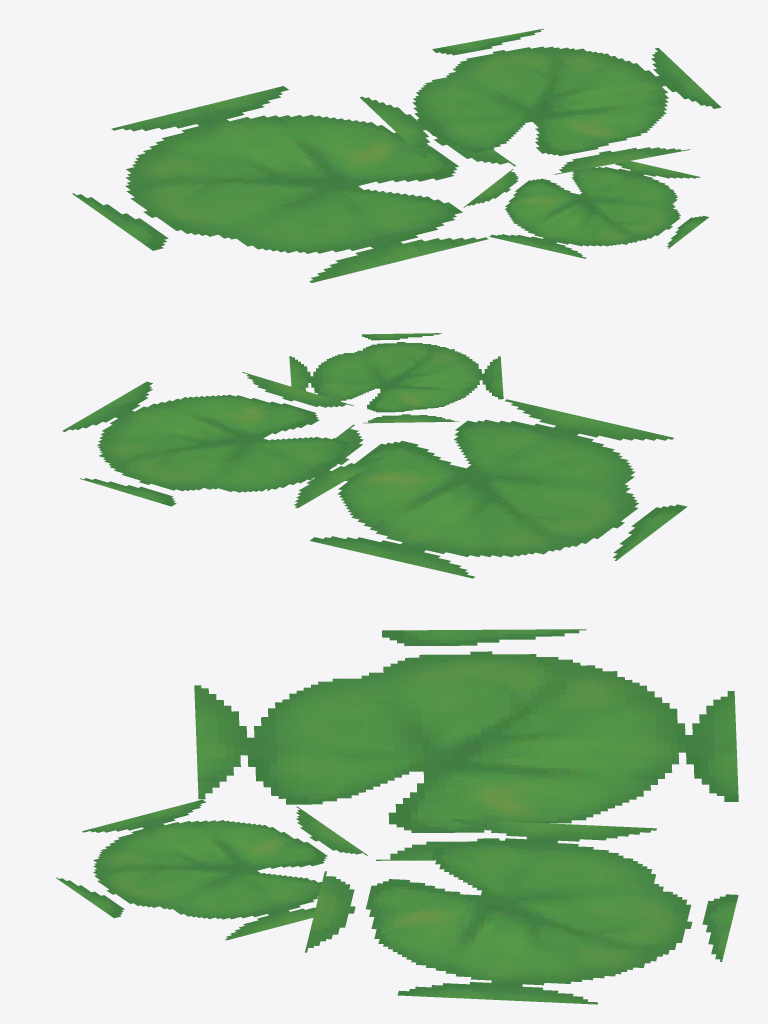
Rendered from RiverDecoPlant.fbx.
The picture shows the model from 3 angles, top to bottom: view 1: azimuth 30°, elevation 25°; view 2: azimuth 150°, elevation 25°; view 3: azimuth 270°, elevation 25°; orthographic projection. The views are drawn at different scales.
Visible parts, largest first — view 1: LotusLeaf (1), LotusLeaf, LotusLeaf (2); view 2: LotusLeaf (1), LotusLeaf, LotusLeaf (2); view 3: LotusLeaf (1), LotusLeaf, LotusLeaf (2).
Boxes of the visible parts, x1,y1,x2,y2 form: LotusLeaf (1): (72,86,515,282); LotusLeaf: (359,28,721,174); LotusLeaf (2): (463,161,709,258); LotusLeaf (1): (267,399,687,578); LotusLeaf: (62,372,384,508); LotusLeaf (2): (289,333,503,423); LotusLeaf (1): (194,629,738,860); LotusLeaf: (305,819,738,1004); LotusLeaf (2): (56,799,367,940).
Bounding box in the file's own units: 1.1 × 0.00322 × 0.9043.
